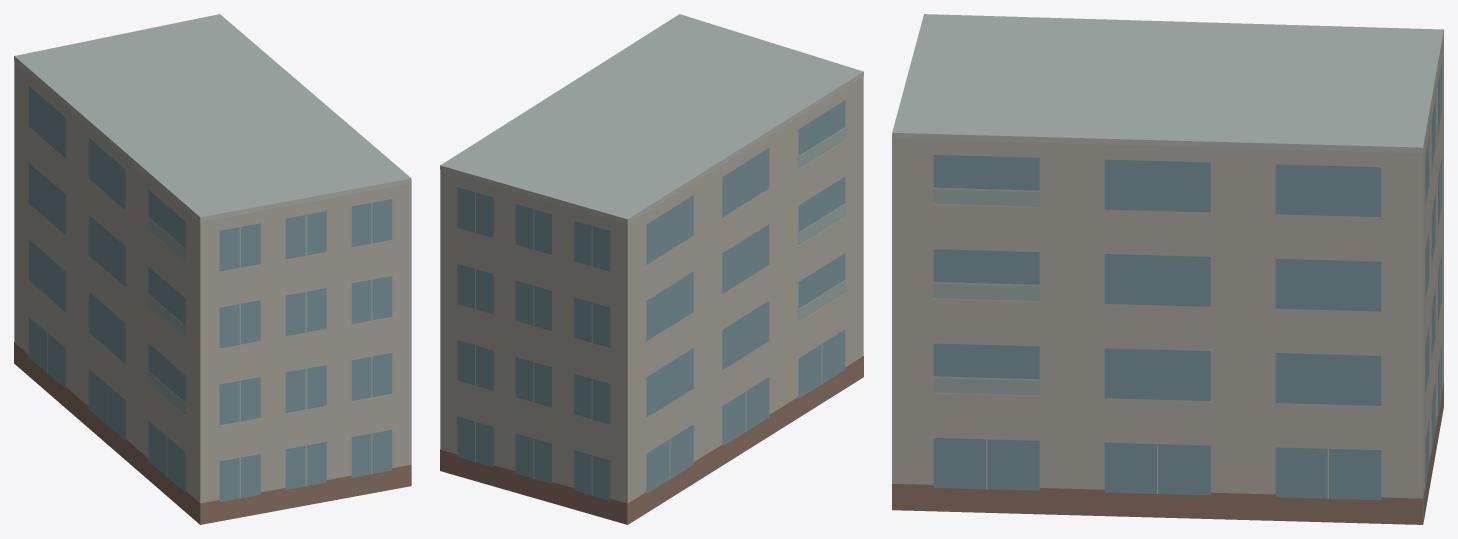
The model's file is survey-upis-32491345.glb.
3 views of the same model, side by side, from view 1: azimuth 30°, elevation 25°; view 2: azimuth 150°, elevation 25°; view 3: azimuth 270°, elevation 25° (orthographic). The views are drawn at different scales.
Parts seen in each view (by area): view 1: survey-upis-32491345.tmp; view 2: survey-upis-32491345.tmp; view 3: survey-upis-32491345.tmp.
Boxes of the visible parts, bbox=[...] form: survey-upis-32491345.tmp: bbox=[14, 14, 411, 524]; survey-upis-32491345.tmp: bbox=[440, 14, 863, 524]; survey-upis-32491345.tmp: bbox=[892, 14, 1443, 524].
Size of the model in its own units: 12 by 15.8 by 20.95.
